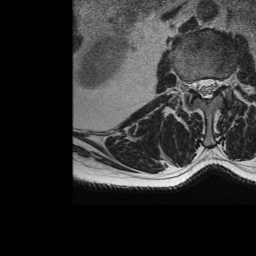CCS_normal: (202, 69, 209, 104)
LFS_normal: (217, 70, 225, 93)
LLS_normal: (209, 70, 217, 100)
RFS_normal: (185, 72, 193, 96)
RLS_normal: (193, 71, 202, 99)
